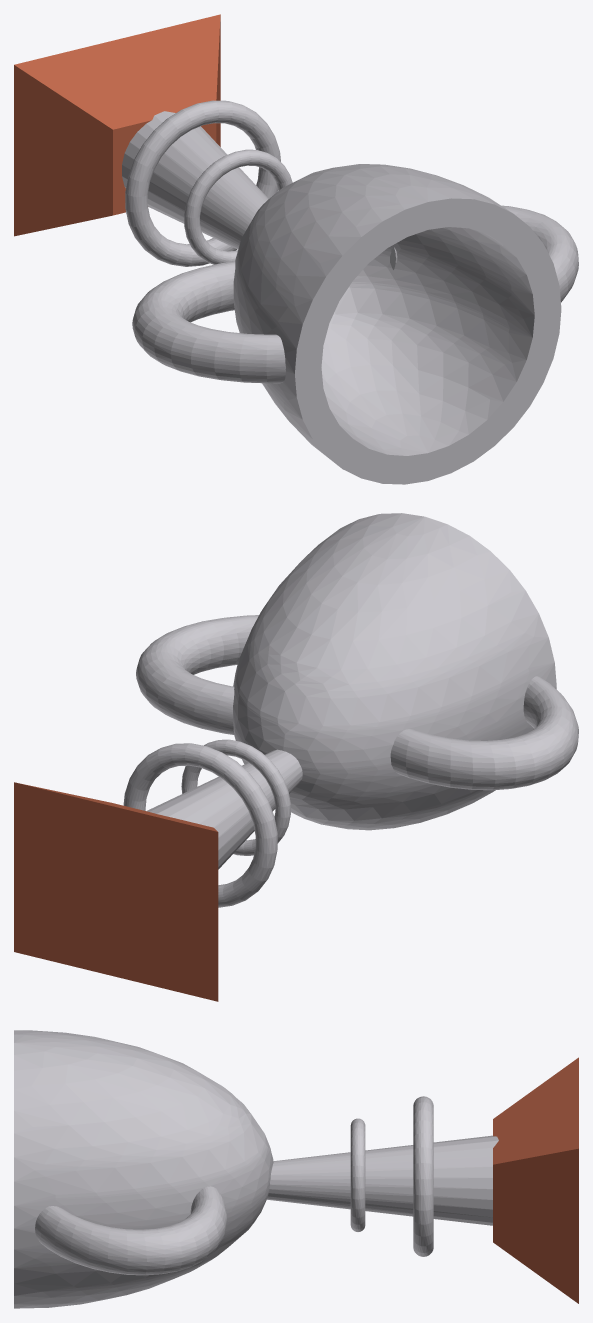
The model's file is cup.dae.
3 renders of one model, top to bottom at view 1: azimuth 30°, elevation 25°; view 2: azimuth 150°, elevation 25°; view 3: azimuth 270°, elevation 25°, orthographic. The views are drawn at different scales.
Visible parts, largest first — view 1: node; view 2: node; view 3: node.
Part boxes in pixels (x1,y1,x2,y2): node: [14, 14, 578, 484]; node: [14, 513, 578, 1001]; node: [14, 1030, 578, 1308].
Bounding box in the file's own units: 19 × 12 × 24.28.
